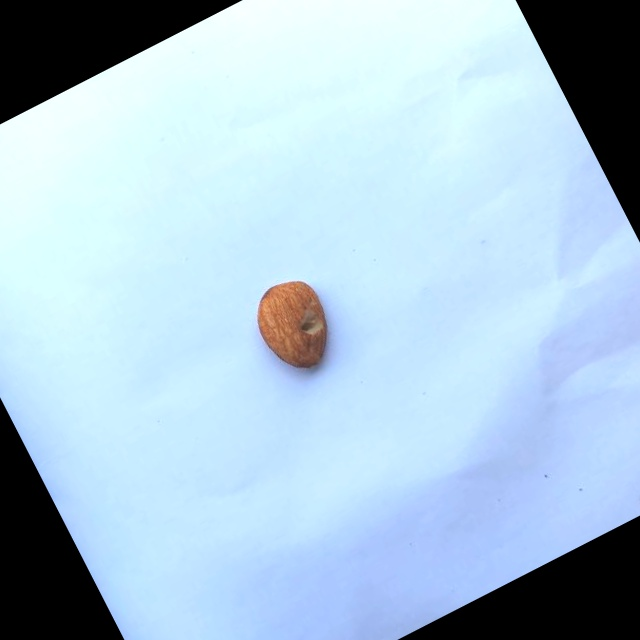grade3: (241, 264, 352, 386)
